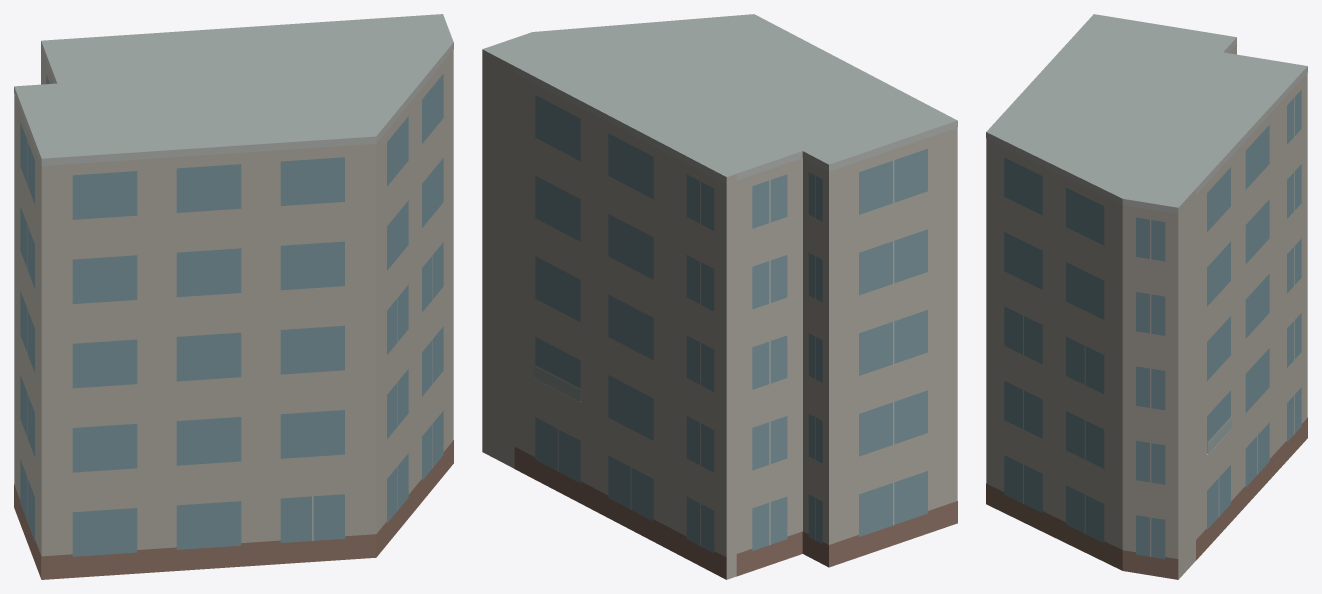
Rendered from survey-upis-32754276.glb.
3 renders of one model, left to right at view 1: azimuth 30°, elevation 25°; view 2: azimuth 150°, elevation 25°; view 3: azimuth 270°, elevation 25°, orthographic. The views are drawn at different scales.
Parts seen in each view (by area): view 1: survey-upis-32754276.tmp; view 2: survey-upis-32754276.tmp; view 3: survey-upis-32754276.tmp.
Part boxes in pixels (x1,y1,x2,y2): survey-upis-32754276.tmp: (14,14,453,579); survey-upis-32754276.tmp: (482,14,957,579); survey-upis-32754276.tmp: (986,14,1307,579).
Size of the model in its own units: 15.75 by 14.1 by 11.06.
